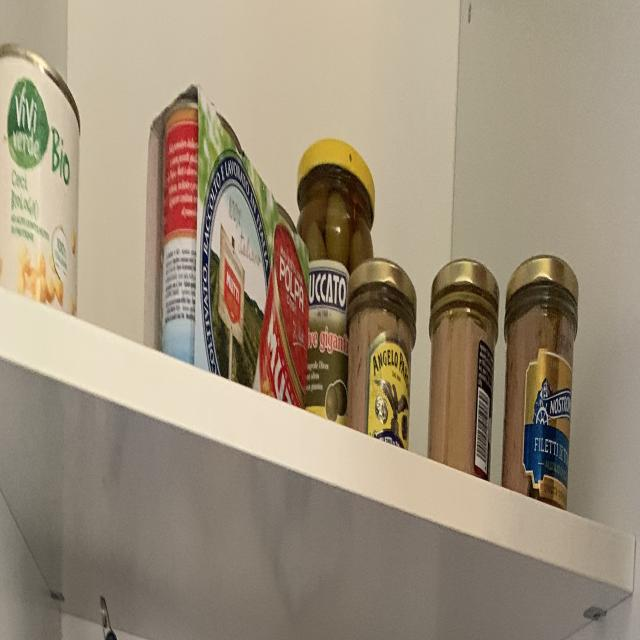chickpeas: (0, 43, 82, 321)
olives: (296, 184, 371, 272)
tomato_sauce: (146, 85, 310, 408)
tuna_fish: (506, 313, 574, 513), (428, 315, 490, 480), (351, 298, 409, 438)
